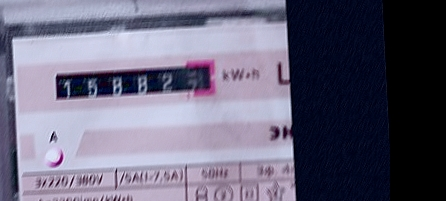1: (62, 77, 72, 96)
2: (161, 70, 174, 91)
5: (84, 76, 99, 96)
7: (186, 76, 198, 89)
8: (135, 71, 149, 93), (111, 74, 124, 94)
screen: (50, 57, 221, 105)
